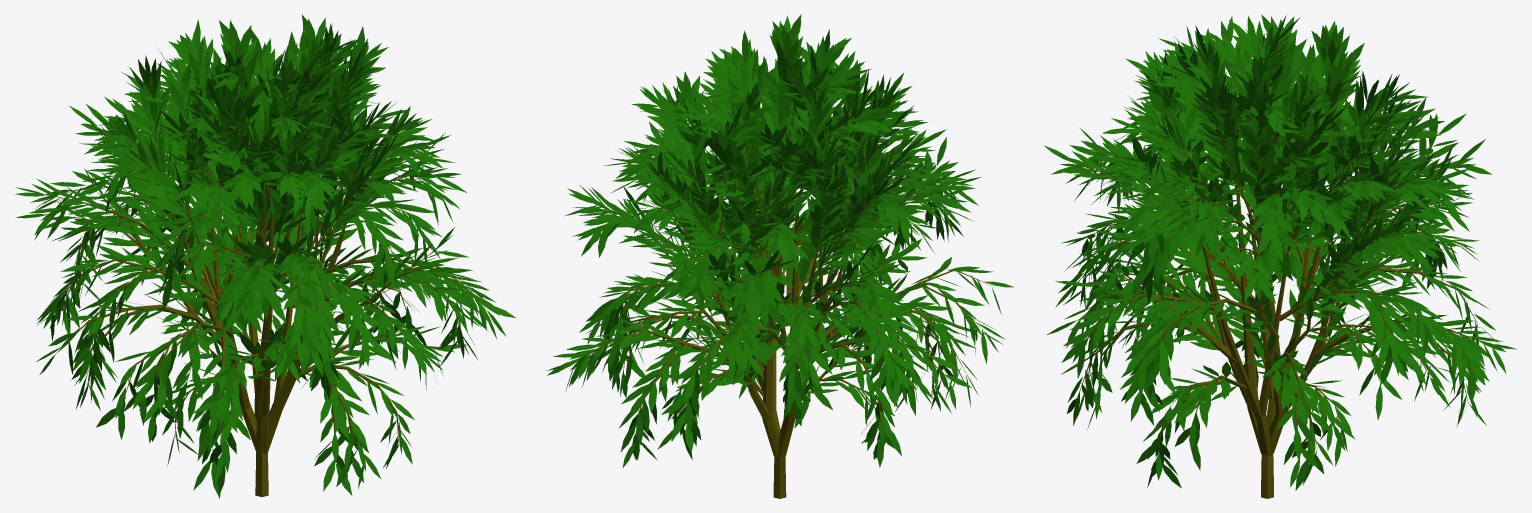
File: pohon 1.fbx
3 views of the same model, side by side, from view 1: azimuth 30°, elevation 25°; view 2: azimuth 150°, elevation 25°; view 3: azimuth 270°, elevation 25° (orthographic). The views are drawn at different scales.
Parts seen in each view (by area): view 1: leaves, tree.001; view 2: leaves, tree.001; view 3: leaves, tree.001.
Boxes of the visible parts, <box> form: leaves: <box>15,14,515,498</box>; tree.001: <box>46,67,485,496</box>; leaves: <box>546,14,1014,467</box>; tree.001: <box>579,76,990,498</box>; leaves: <box>1044,14,1516,490</box>; tree.001: <box>1076,57,1479,498</box>.
Size of the model in its own units: 453 by 527 by 475.
